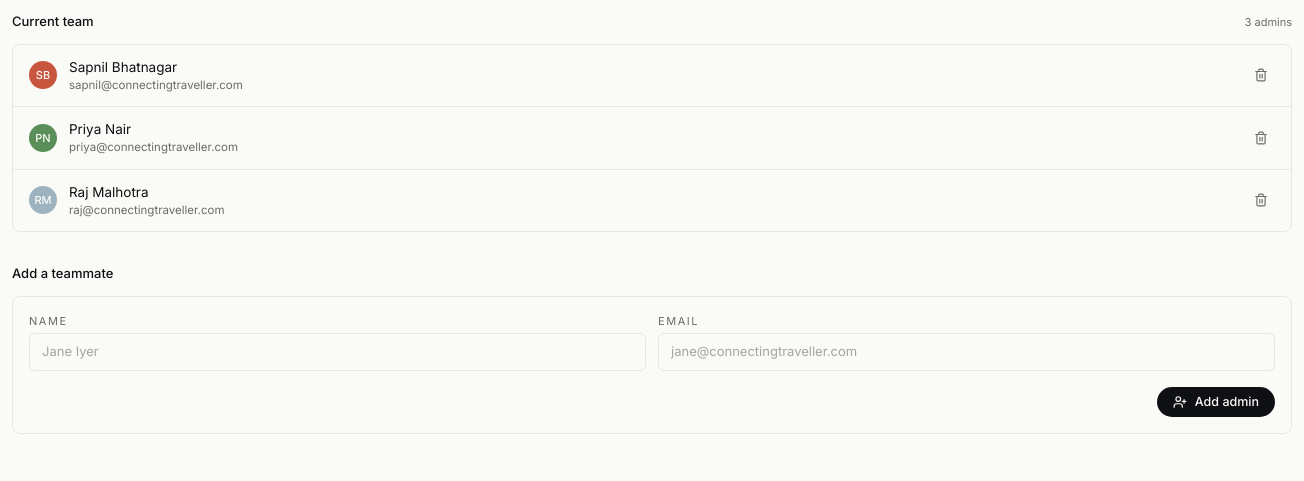
Test: AdminsPanel › rejects duplicate emails
The width and height of the screenshot is (1304, 481).
Expected: the list item with test id "admin-row-admin_sapnil" is shown, top-left (13, 44), bottom-right (1291, 107)
Type "Another Sapnil" into the field with test id "admin-input-name" at {"x": 338, "y": 352}, box top-left (29, 333), bottom-right (646, 370)
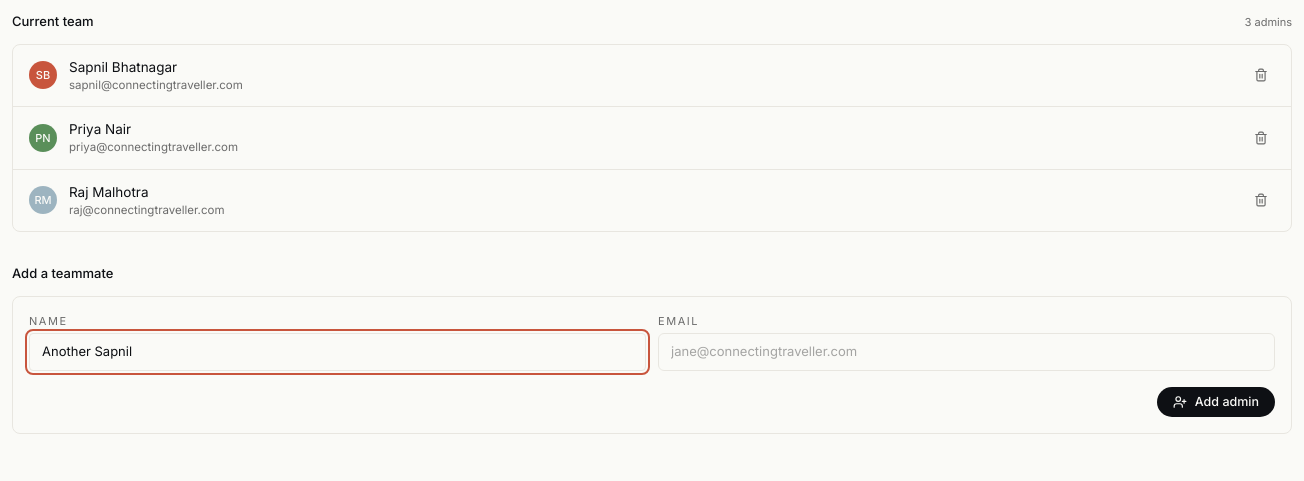
Type "sapnil@connectingtraveller.com" into the field with test id "admin-input-email" at {"x": 966, "y": 352}, box top-left (658, 333), bottom-right (1275, 370)
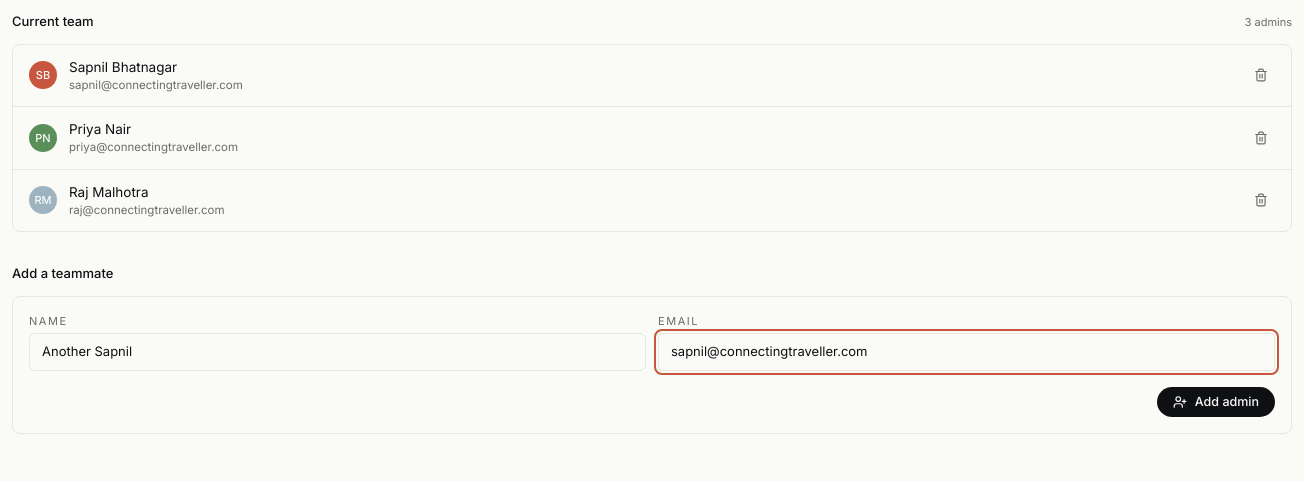
Click the button with test id "admin-submit" at {"x": 1216, "y": 402}, box top-left (1157, 386), bottom-right (1275, 417)
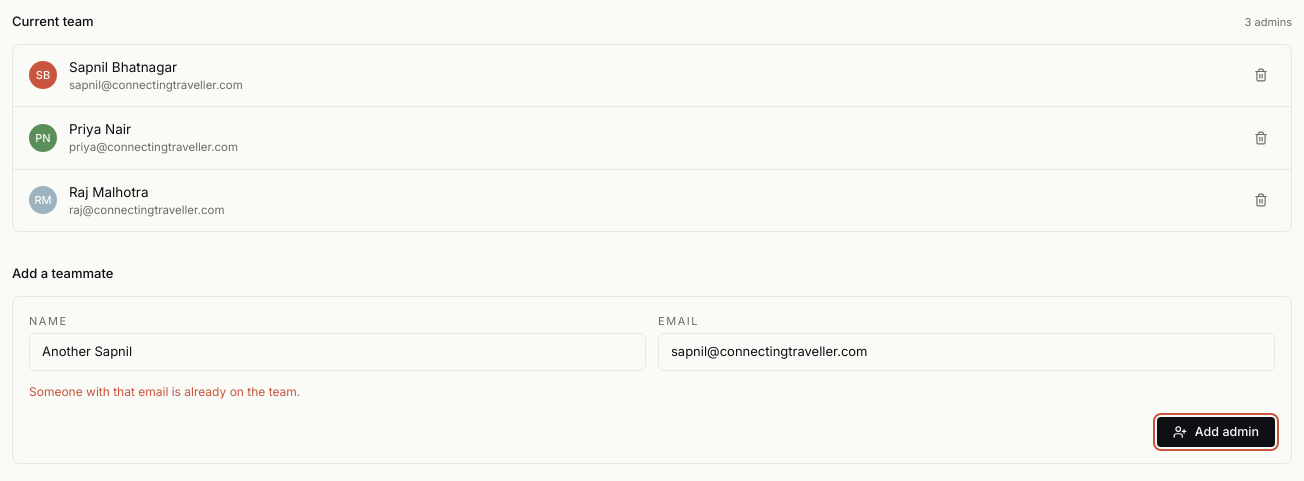
Expected: the text with test id "admin-error" shows "already on the team", top-left (29, 384), bottom-right (300, 398)
